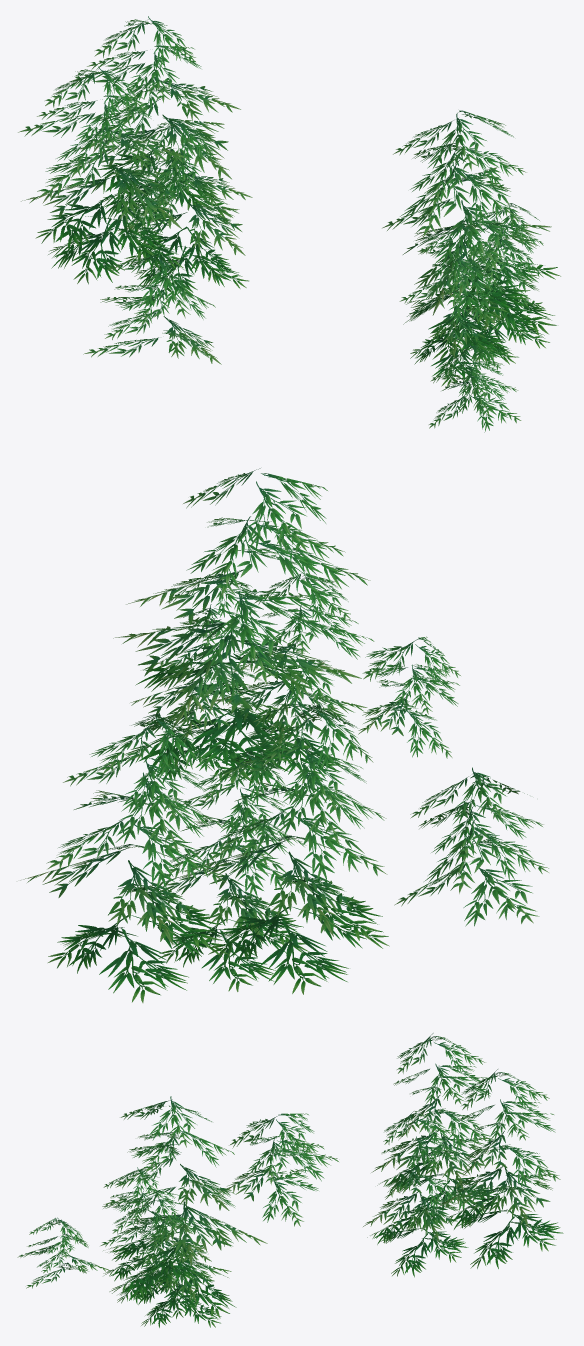
The model's file is Area_11_25.fbx.
3 views of the same model, one above another, from view 1: azimuth 30°, elevation 25°; view 2: azimuth 150°, elevation 25°; view 3: azimuth 270°, elevation 25° (orthographic). The views are drawn at different scales.
Visible parts, largest first — view 1: Area_11_25; view 2: Area_11_25; view 3: Area_11_25.
Boxes of the visible parts, x1,y1,x2,y2 form: Area_11_25: (18,16,560,432); Area_11_25: (20,468,548,1002); Area_11_25: (17,1033,563,1327).
Bounding box in the file's own units: 2885 × 1750 × 4107.
